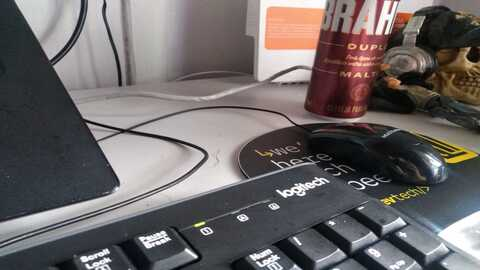duplo_malte: (300, 1, 397, 118)
